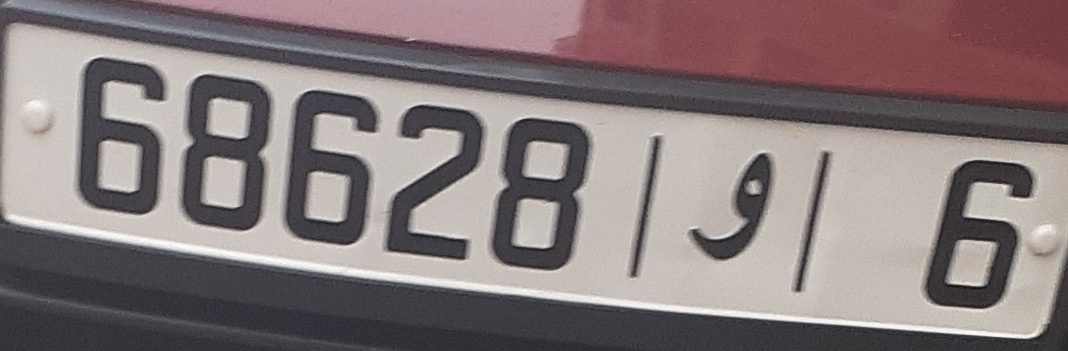2: (383, 99, 489, 266)
6: (923, 152, 1039, 322), (76, 50, 169, 223), (287, 87, 378, 254)
8: (490, 109, 597, 277), (176, 68, 275, 240)
waw: (691, 146, 781, 268)
